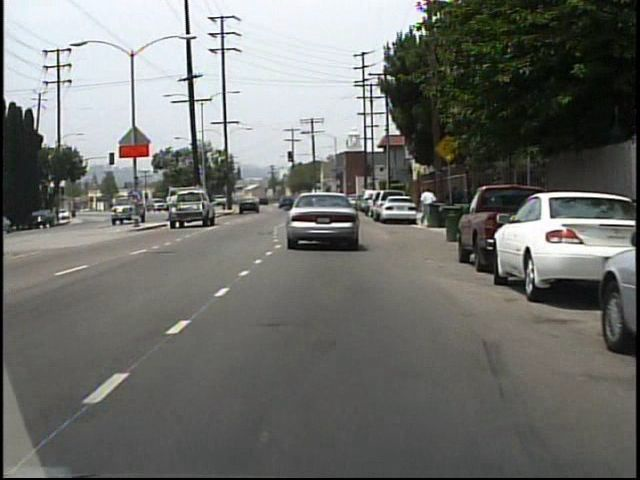person: (421, 186, 433, 229)
